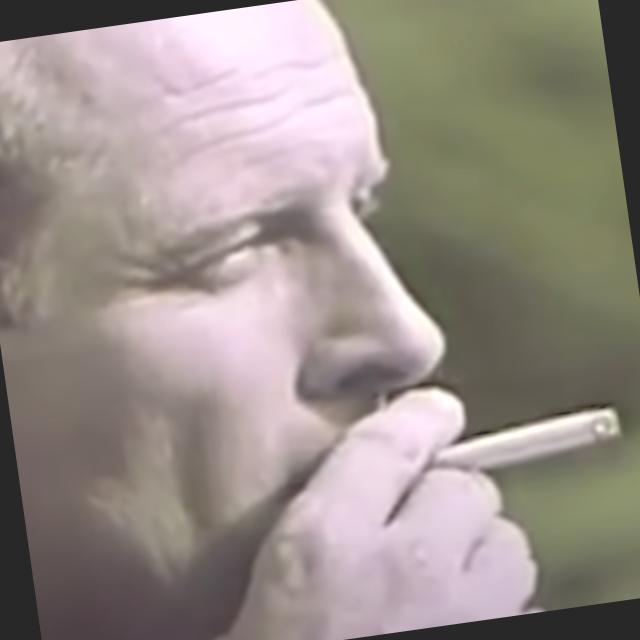smoke: (451, 402, 640, 485)
